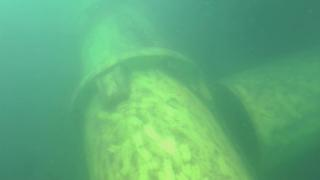pipe: (66, 9, 259, 180), (211, 53, 320, 173)
